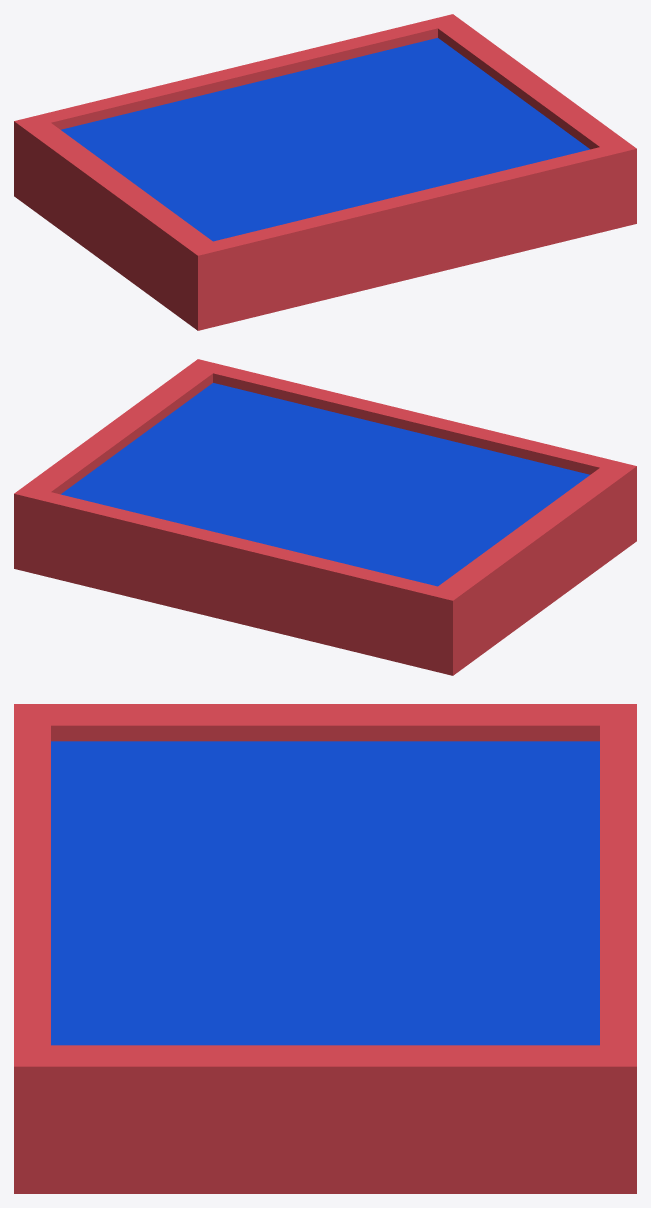
Rendered from sandbox.fbx.
3 renders of one model, top to bottom at view 1: azimuth 30°, elevation 25°; view 2: azimuth 150°, elevation 25°; view 3: azimuth 270°, elevation 25°, orthographic. The views are drawn at different scales.
Visible parts, largest first — view 1: Cube; view 2: Cube; view 3: Cube.
Boxes of the visible parts, bbox=[...] form: Cube: bbox=[14, 14, 636, 330]; Cube: bbox=[14, 359, 636, 675]; Cube: bbox=[14, 704, 636, 1193].
Bounding box in the file's own units: 445 × 72.68 × 323.
